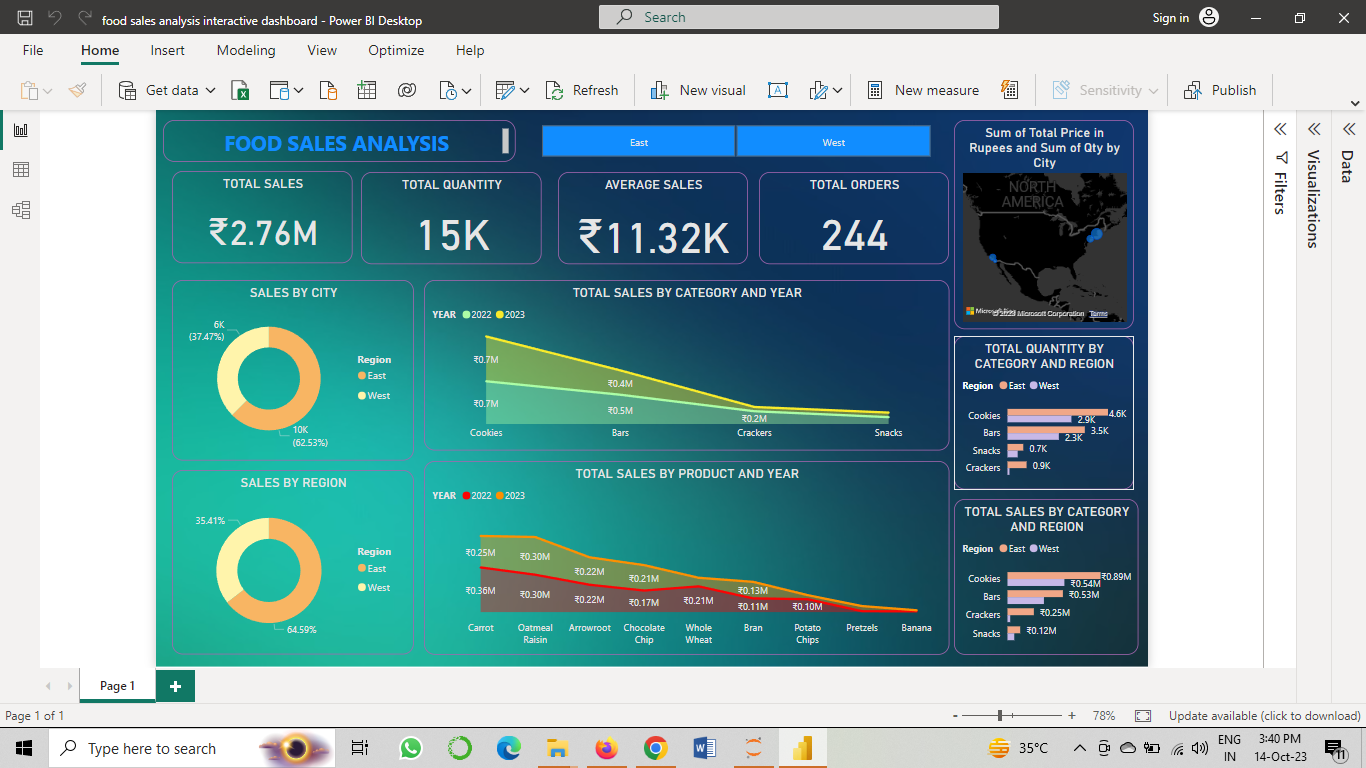

Layout of this report page (visuals, bound fields, positions):
{"tool":"powerbi","page":{"name":"Page 1","canvas":[1280,720],"ordinal":0},"visuals":[{"type":"cardVisual","title":"TOTAL SALES","fields":{"Data":["Sales_Data.Total Price in Rupees"]},"box":[20.1,78.8,233.2,119.1],"z":0},{"type":"clusteredBarChart","title":"TOTAL QUANTITY BY CATEGORY AND REGION","fields":{"Category":["Sales_Data.Category"],"Series":["Sales_Data.Region"],"Y":["Sales_Data.Qty"]},"box":[1030,291.9,231.5,198],"z":1000},{"type":"donutChart","title":"SALES BY REGION","fields":{"Category":["Sales_Data.Region"],"Y":["Sales_Data.Total Price in Rupees"]},"box":[20.1,464.7,312,238.2],"z":2000},{"type":"clusteredBarChart","title":"TOTAL SALES BY CATEGORY AND REGION","fields":{"Category":["Sales_Data.Category"],"Y":["Sales_Data.Total Price in Rupees"],"Series":["Sales_Data.Region"]},"box":[1030,501.6,238.2,201.3],"z":3000},{"type":"donutChart","title":"SALES BY CITY","fields":{"Category":["Sales_Data.Region"],"Y":["Sales_Data.Qty"]},"box":[20.1,219.8,312,233.2],"z":4000},{"type":"stackedAreaChart","title":"TOTAL SALES BY PRODUCT AND YEAR","fields":{"Category":["Sales_Data.Product"],"Y":["Sales_Data.Total Price in Rupees"],"Series":["Sales_Data.YEAR"]},"box":[345.6,452.9,677.7,250],"z":5000},{"type":"textbox","box":[8.4,13.4,454.6,53.7],"z":6000},{"type":"map","fields":{"Category":["Sales_Data.City"],"Size":["Sales_Data.Total Price in Rupees"]},"box":[1029.7,12.9,232.3,269.7],"z":7000},{"type":"stackedAreaChart","title":"TOTAL SALES BY CATEGORY AND YEAR","fields":{"Y":["Sales_Data.Total Price in Rupees"],"Series":["Sales_Data.YEAR"],"Category":["Sales_Data.Category"]},"box":[345.6,219.8,677.7,219.8],"z":8000},{"type":"cardVisual","title":"TOTAL QUANTITY","fields":{"Data":["Sales_Data.Qty"]},"box":[265.1,80.5,233.2,119.1],"z":9000},{"type":"cardVisual","title":"AVERAGE SALES","fields":{"Data":["Sales_Data.Total Price in Rupees"]},"box":[518.4,80.5,244.9,119.1],"z":10000},{"type":"cardVisual","title":"TOTAL ORDERS","fields":{"Data":["Sales_Data.ID"]},"box":[778.4,80.5,244.9,119.1],"z":11000},{"type":"slicer","fields":{"Values":["Sales_Data.Region"]},"box":[472.3,12.9,551,54.2],"z":12000}]}

Visuals, with their boxes on the page's 1280x720 design canvas (x1, y1, x2, y2). These are canvas units, not pixel positions in the 1366x768 screenshot, which may show the page scaled, cropped or inside an application window:
"TOTAL SALES" cardVisual: box=[20, 79, 253, 198]
"TOTAL QUANTITY BY CATEGORY AND REGION" clusteredBarChart: box=[1030, 292, 1262, 490]
"SALES BY REGION" donutChart: box=[20, 465, 332, 703]
"TOTAL SALES BY CATEGORY AND REGION" clusteredBarChart: box=[1030, 502, 1268, 703]
"SALES BY CITY" donutChart: box=[20, 220, 332, 453]
"TOTAL SALES BY PRODUCT AND YEAR" stackedAreaChart: box=[346, 453, 1023, 703]
textbox: box=[8, 13, 463, 67]
map - Sales_Data.City x Sales_Data.Total Price in Rupees: box=[1030, 13, 1262, 283]
"TOTAL SALES BY CATEGORY AND YEAR" stackedAreaChart: box=[346, 220, 1023, 440]
"TOTAL QUANTITY" cardVisual: box=[265, 80, 498, 200]
"AVERAGE SALES" cardVisual: box=[518, 80, 763, 200]
"TOTAL ORDERS" cardVisual: box=[778, 80, 1023, 200]
slicer - Sales_Data.Region: box=[472, 13, 1023, 67]
